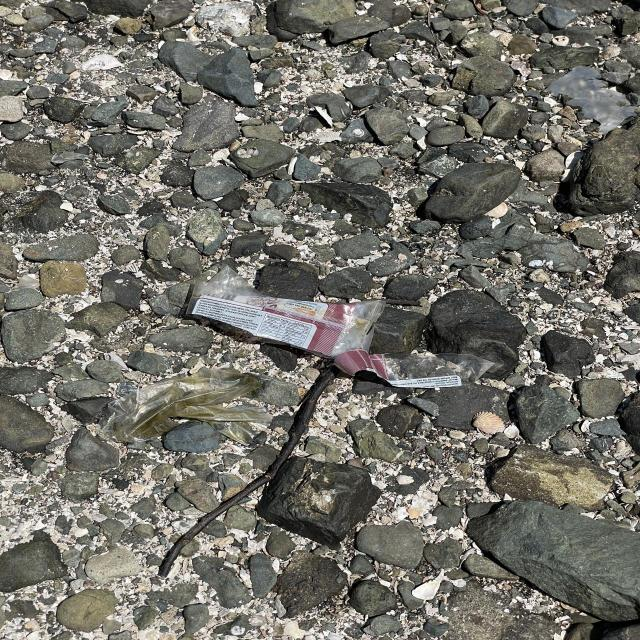litter: (186, 264, 383, 367), (546, 68, 638, 132)
